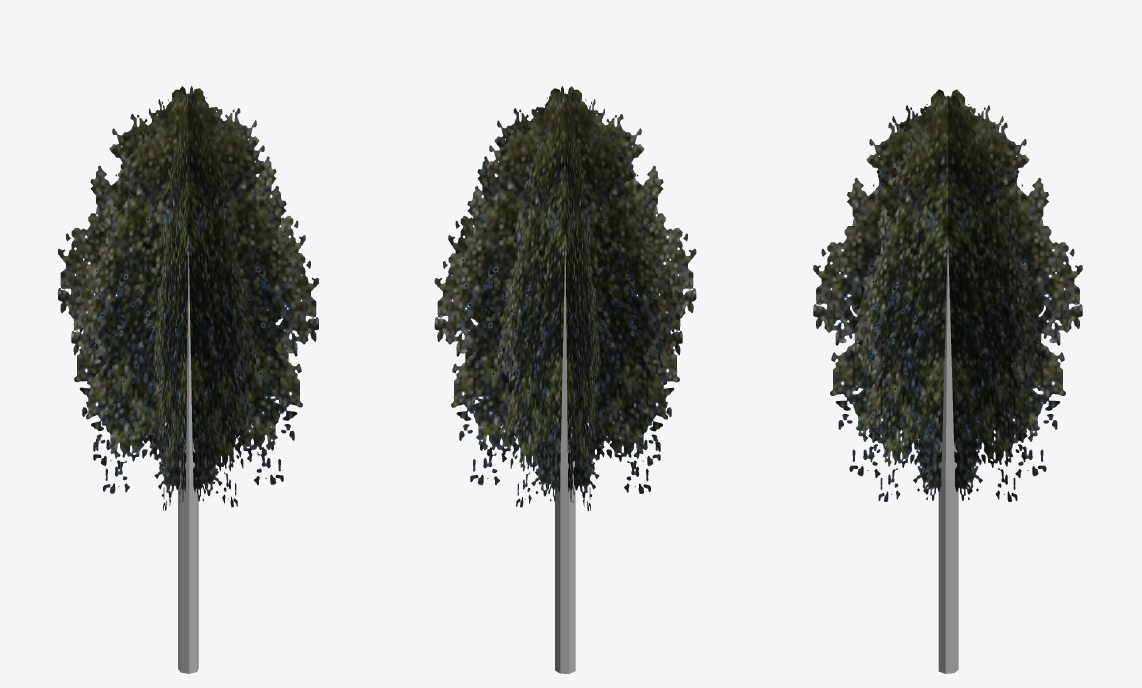
File: planeTreeJoin.fbx
3 renders of one model, left to right at view 1: azimuth 30°, elevation 25°; view 2: azimuth 150°, elevation 25°; view 3: azimuth 270°, elevation 25°, orthographic.
Visible parts, largest first — view 1: Cylinder; view 2: Cylinder; view 3: Cylinder.
Part boxes in pixels (box(x1,y1,x2,y2)): Cylinder: box(58, 86, 318, 673); Cylinder: box(434, 86, 696, 673); Cylinder: box(813, 89, 1082, 673).
Size of the model in its own units: 100 by 178 by 100.
